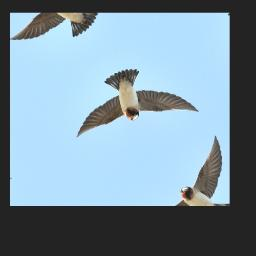Swallow: (57, 47, 201, 175)
